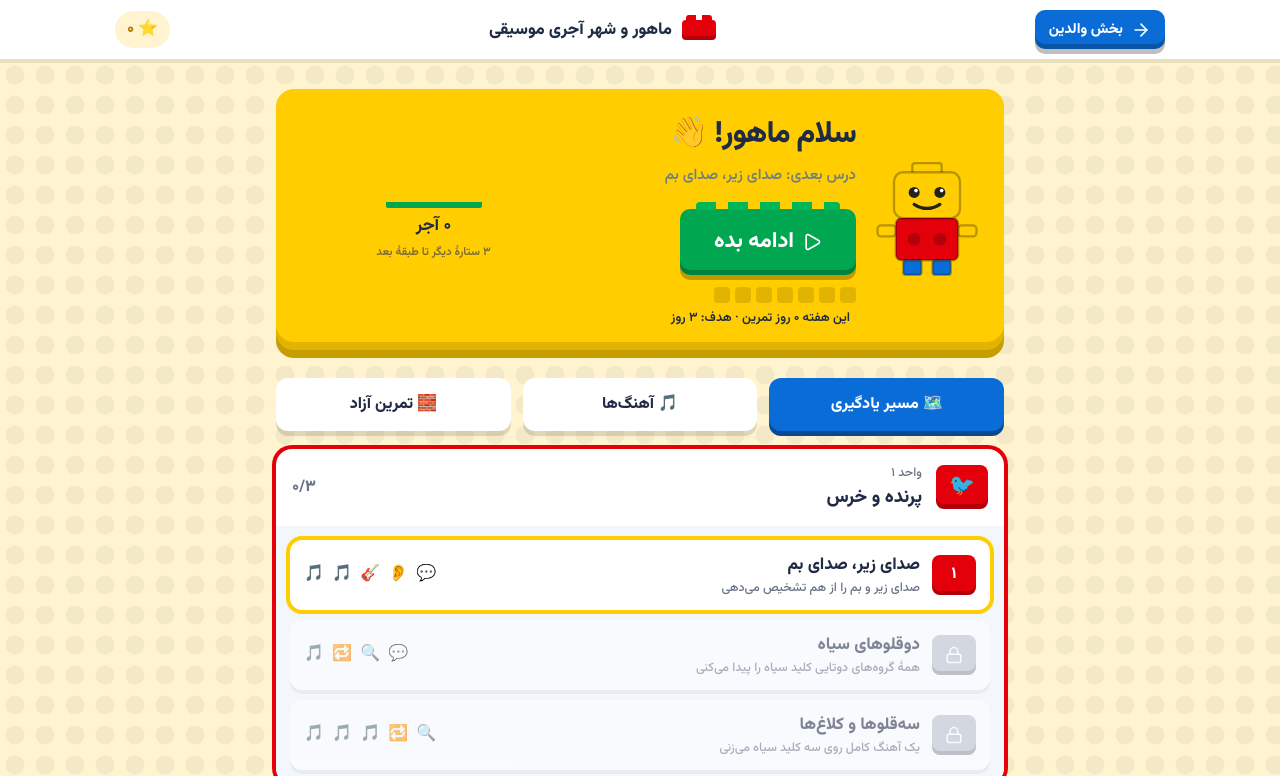
a wrong note says what it heard so a parent can tell a mis-hit from a mis-heard key
The image size is (1280, 776).
Click the tab "🧱 تمرین آزاد": [393, 404] box [276,378,511,431]
(page scrolled)
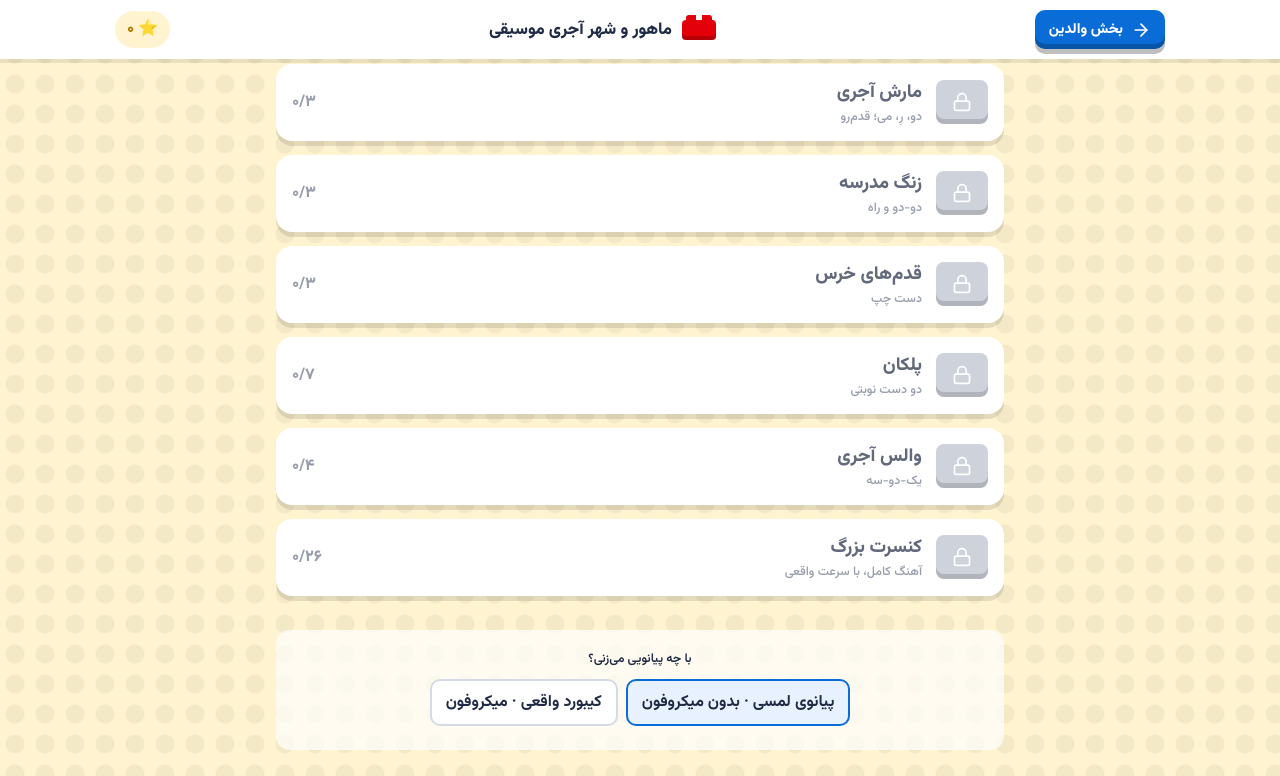
Click the button "کیبورد واقعی · میکروفون": [524, 702] box [430,679,618,726]
(page scrolled)
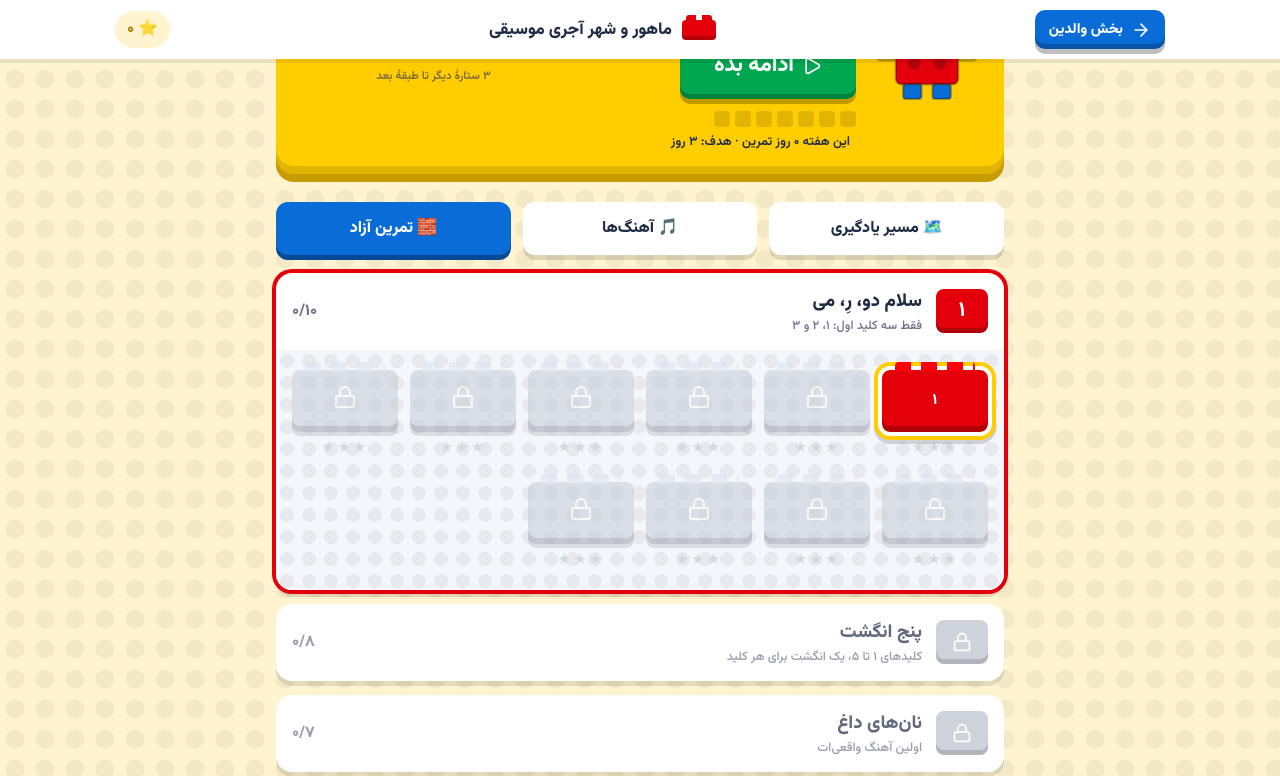
Click the button named "مرحله 1: سلام دو، رِ، می ۱": [935, 401] box [882,370,988,432]
(page scrolled)
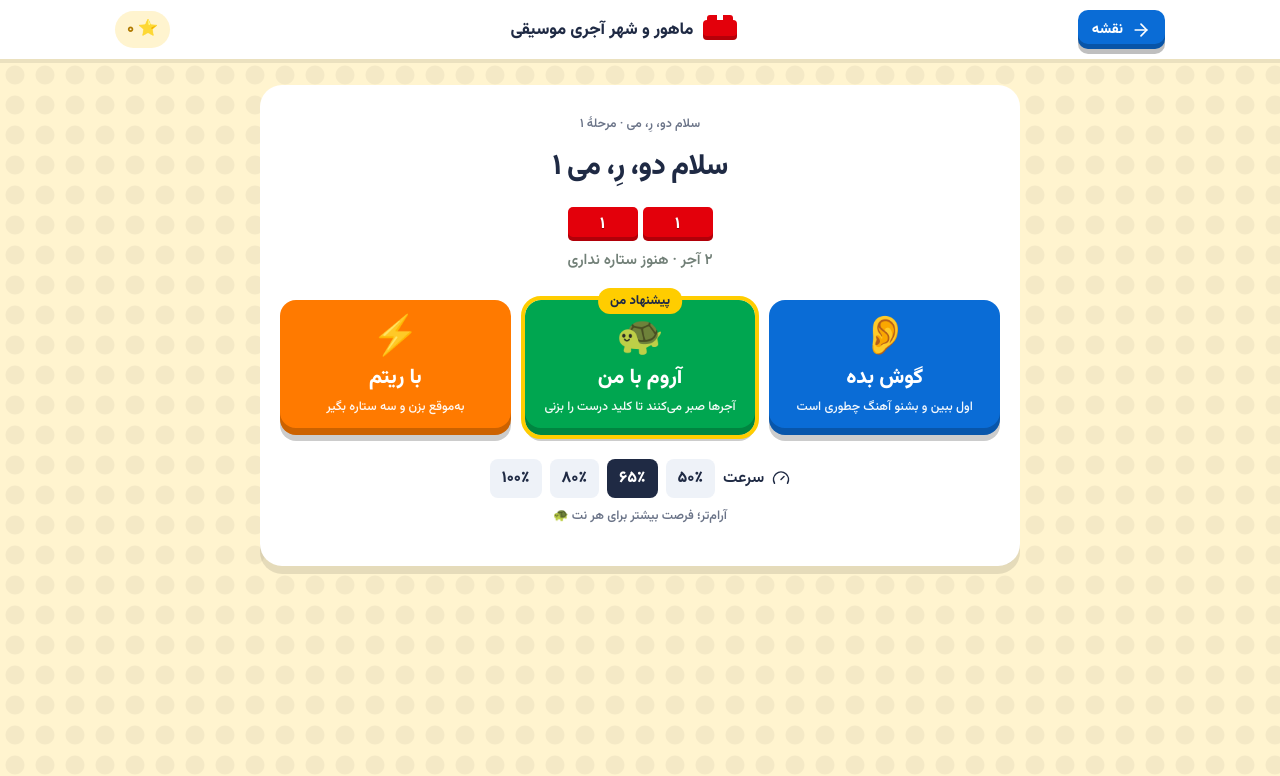
Click the button "⚡ با ریتم به‌موقع بزن و سه ستاره بگیر": [395, 367] box [280,300,511,435]
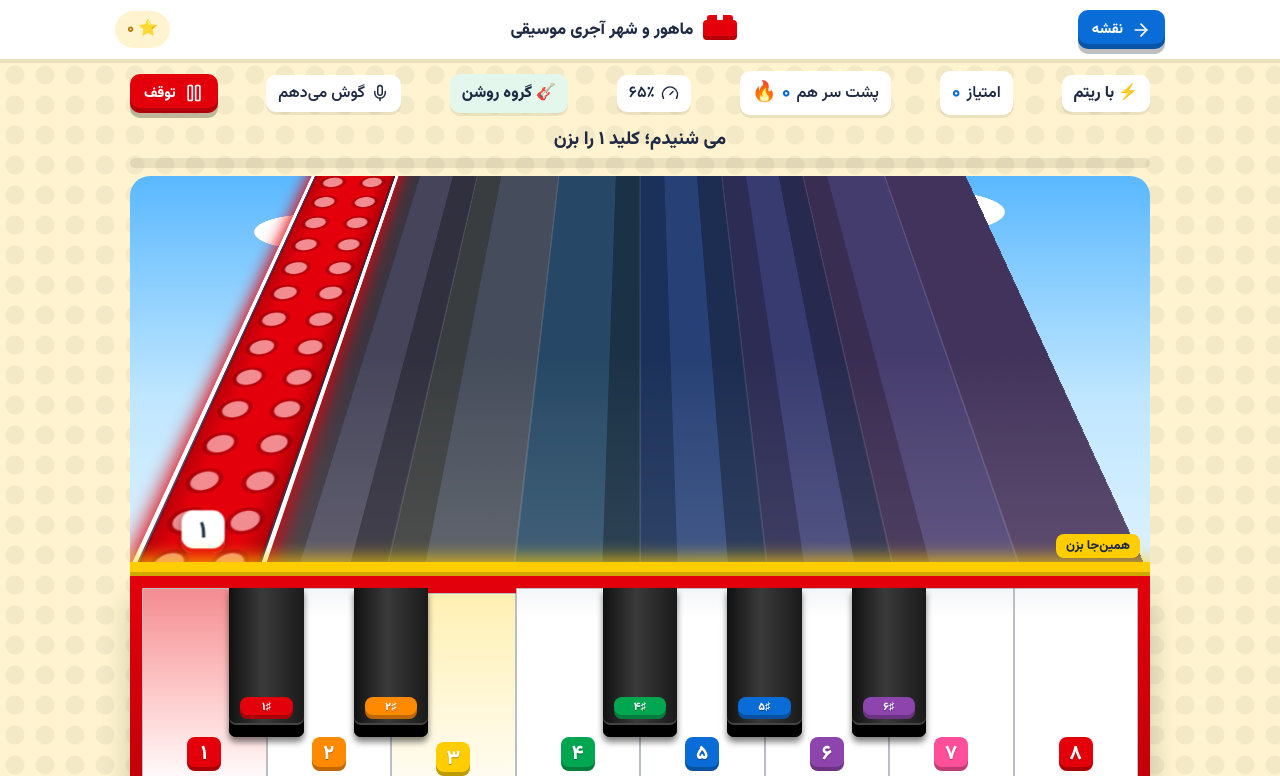
Result: the message shows "می شنیدم" at [554,125,726,154]
